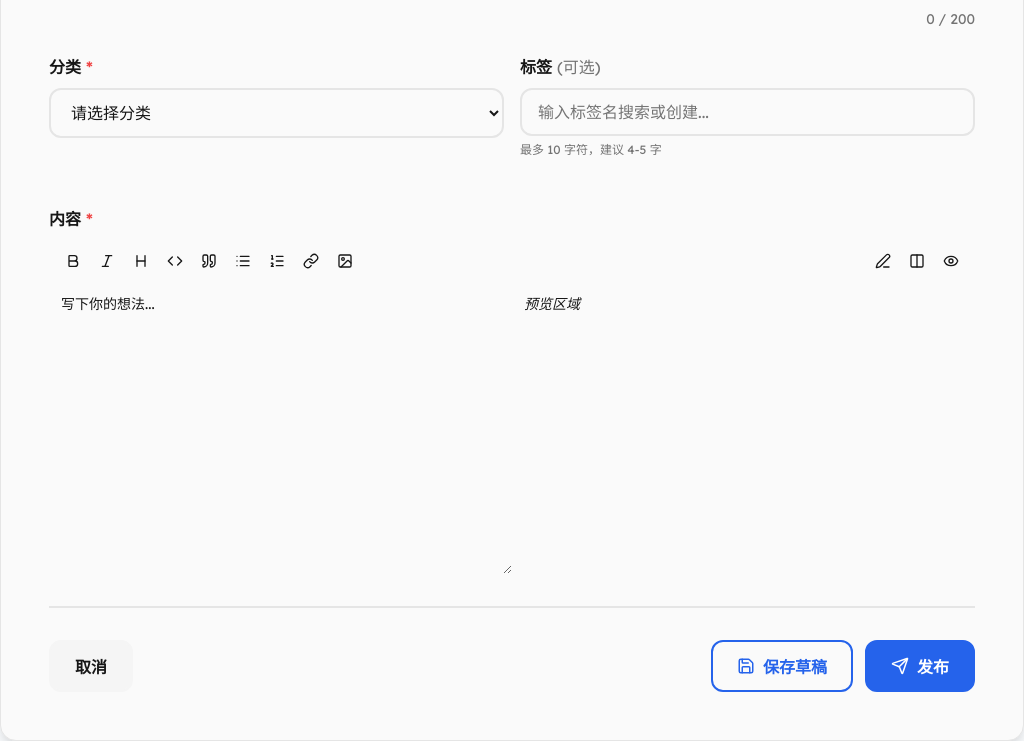
Scenario: PostForm › should validate required fields
(page scrolled)
# Try to submit without filling fields
Step 1. Click the button "发布" → point(920, 666), box x1=865 y1=640 x2=975 y2=692
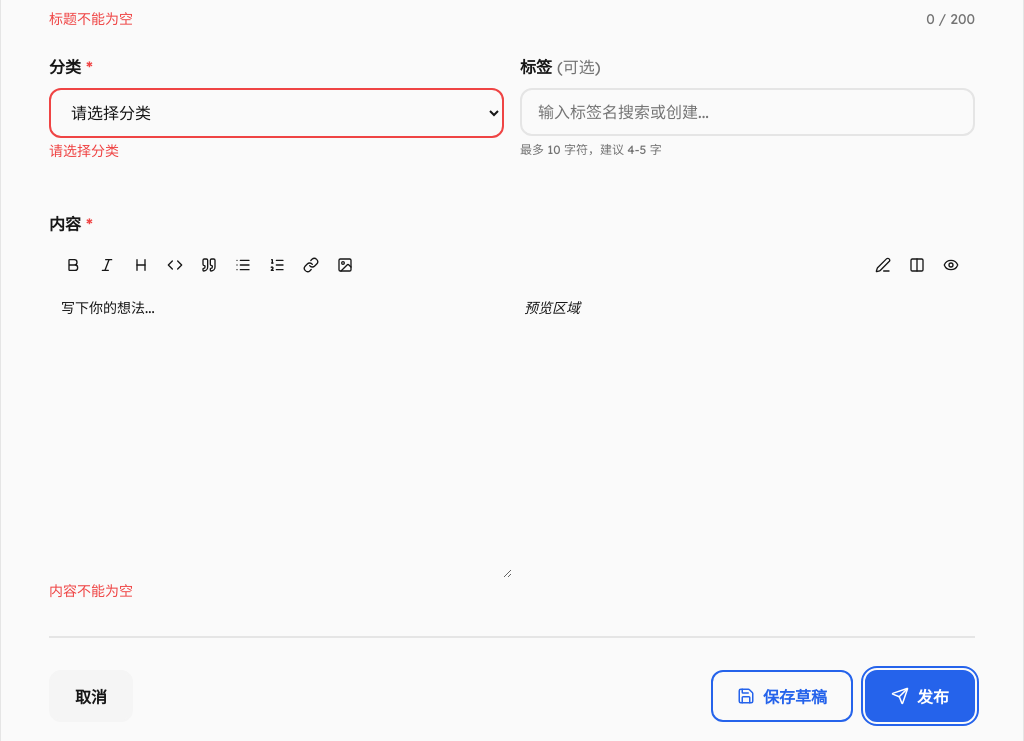
Expected: the text "标题不能为空" is shown, x1=49 y1=8 x2=133 y2=31
Expected: the text "内容不能为空" is shown, x1=49 y1=582 x2=133 y2=600
